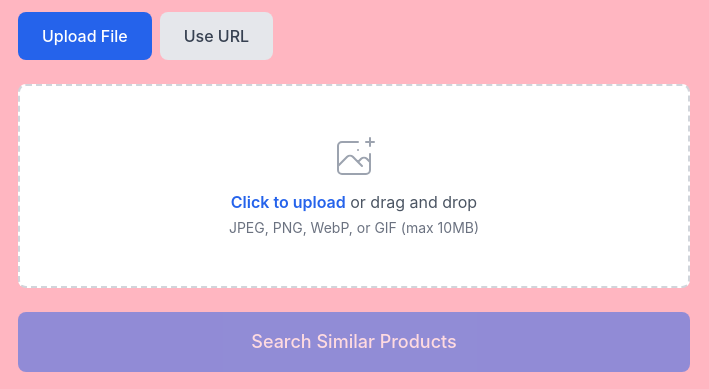
Test: UploadInterface › displays error for invalid URL
The image size is (709, 389).
// Switch to URL mode
Click the button "Use URL" at x=216, y=36, box [160, 12, 273, 60]
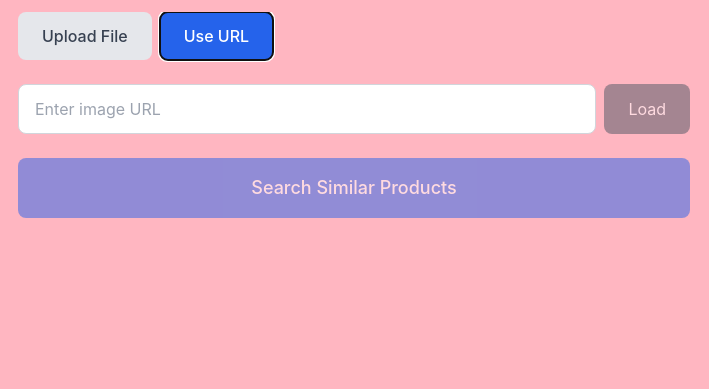
// Enter invalid URL
Type "not-a-valid-url" into the field with placeholder "Enter image URL" at x=307, y=109, box [18, 84, 596, 134]
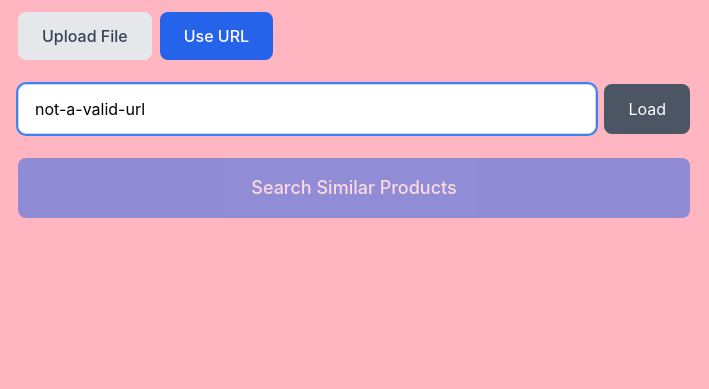
Click the button "Load" at x=647, y=109, box [604, 84, 690, 134]
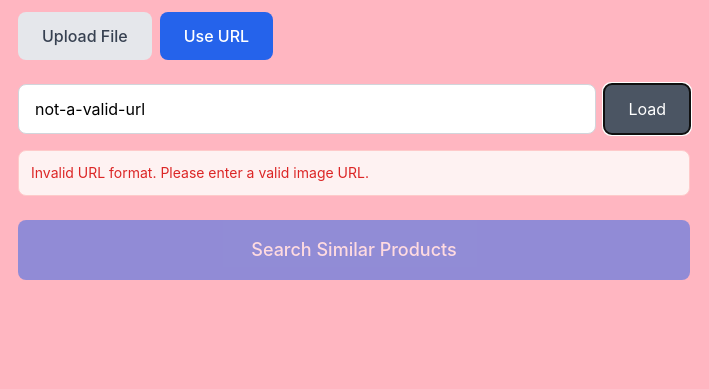
Now the text "Invalid URL format. Please enter a valid image URL." is shown, box [31, 164, 369, 181]
